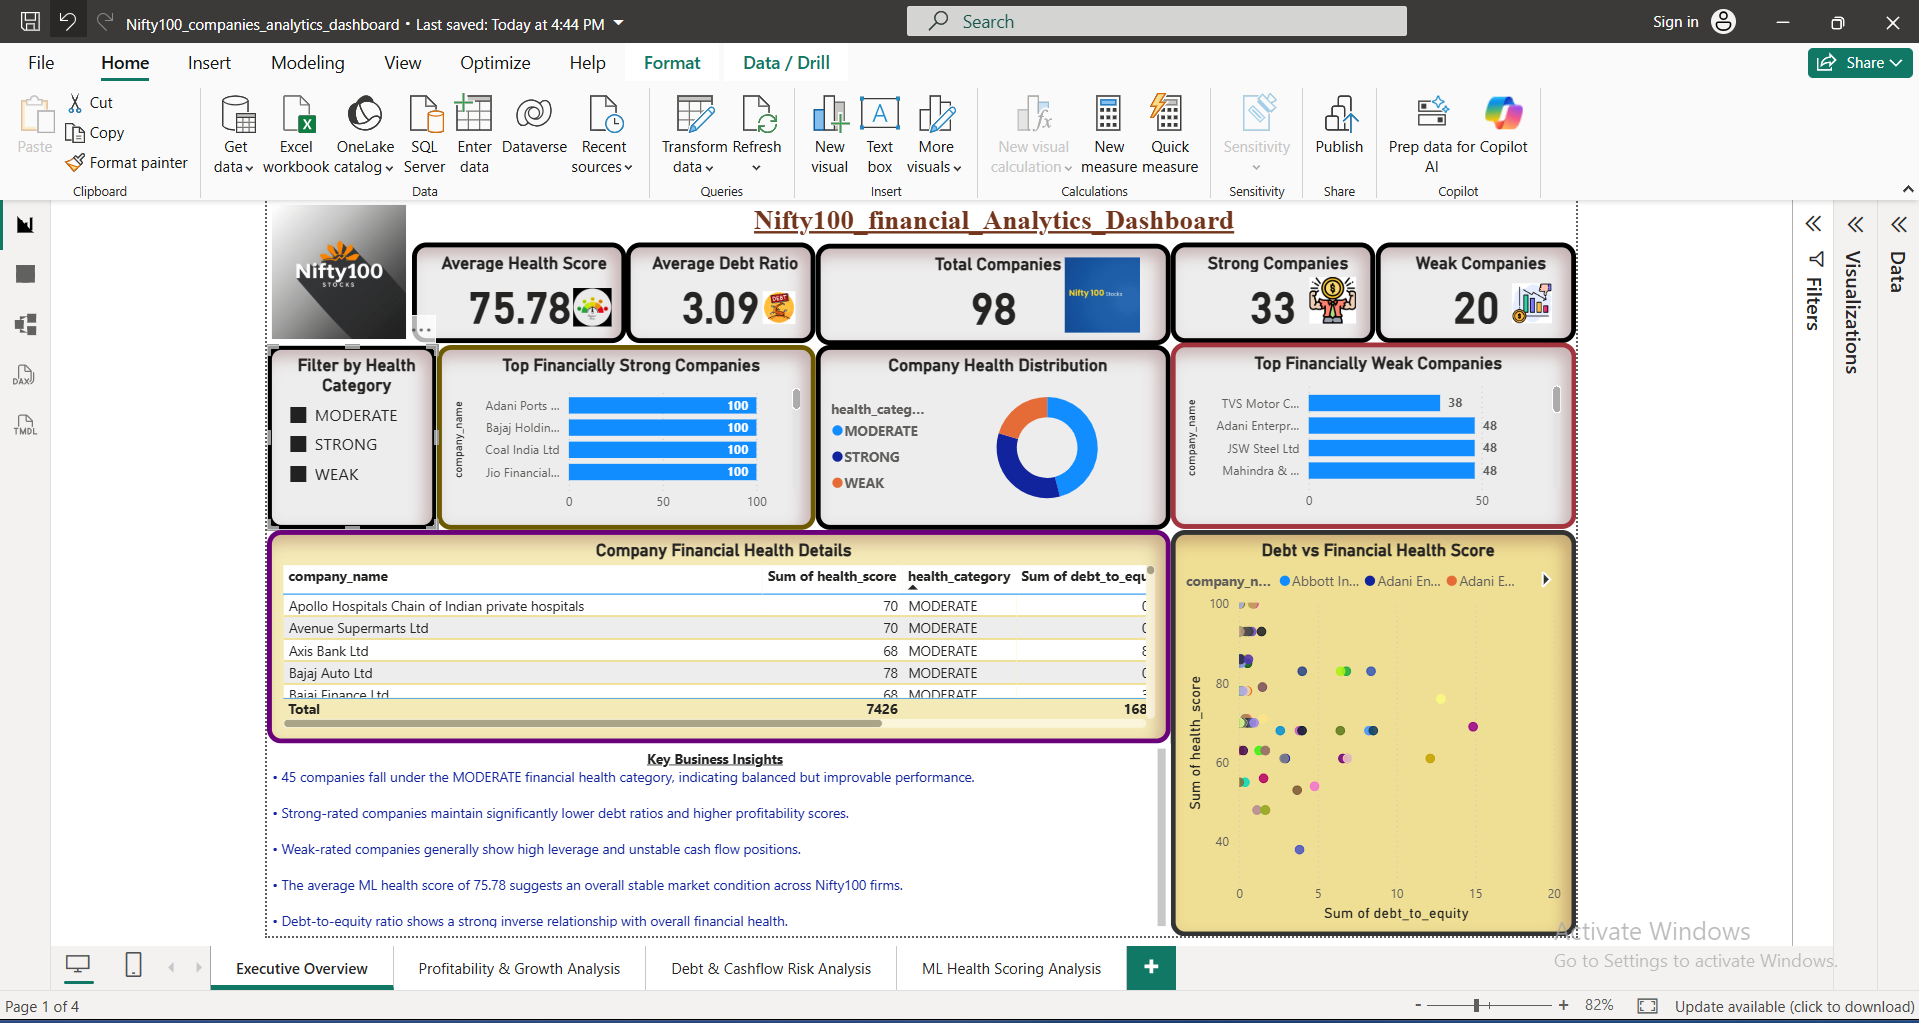

The page's visual inventory and layout, read from the dashboard file:
{"tool":"powerbi","page":{"name":"Executive Overview","canvas":[1280,720],"ordinal":0},"visuals":[{"type":"card","title":"Average Health Score","fields":{"Values":["Avg(company_health_scores.health_score)"]},"box":[141.3,41.2,209.9,98.8],"z":0},{"type":"card","title":"Total Companies","fields":{"Values":["Count(company_health_scores.company_name)"]},"box":[536.8,42.8,347.3,99],"z":1000},{"type":"card","title":"Strong Companies","fields":{"Values":["CountNonNull(company_health_scores.health_category)"]},"box":[883.7,41.2,200.3,98.8],"z":2000},{"type":"card","title":"Weak Companies","fields":{"Values":["CountNonNull(company_health_scores.health_category)"]},"box":[1084.1,41.2,196.2,98.8],"z":3000},{"type":"card","title":"Average Debt Ratio","fields":{"Values":["Avg(company_health_scores.debt_to_equity)"]},"box":[351.3,41.2,185.2,98.8],"z":4000},{"type":"donutChart","title":"Company Health Distribution","fields":{"Category":["company_health_scores.health_category"],"Y":["Count(company_health_scores.company_name)"]},"box":[536.5,141.3,347.2,181.1],"z":5000},{"type":"clusteredBarChart","title":"Top Financially Strong Companies","fields":{"Category":["company_health_scores.company_name"],"Y":["Sum(company_health_scores.health_score)"]},"box":[166,141.3,370.5,181.1],"z":6000},{"type":"clusteredBarChart","title":"Top Financially Weak Companies","fields":{"Category":["company_health_scores.company_name"],"Y":["Sum(company_health_scores.health_score)"]},"box":[883.7,140,396.6,182.5],"z":7000},{"type":"scatterChart","title":"Debt vs Financial Health Score","fields":{"X":["Sum(company_health_scores.debt_to_equity)"],"Y":["Sum(company_health_scores.health_score)"],"Category":["company_health_scores.company_name"],"Series":["company_health_scores.company_name"]},"box":[883.7,322.5,396.6,397.9],"z":8000},{"type":"slicer","title":"Filter by Health Category","fields":{"Values":["company_health_scores.health_category"]},"box":[0,141.3,166,181.1],"z":9000},{"type":"tableEx","title":"Company Financial Health Details","fields":{"Values":["company_health_scores.company_name","Sum(company_health_scores.health_score)","company_health_scores.health_category","Sum(company_health_scores.debt_to_equity)","Sum(company_health_scores.free_cash_flow)","Sum(company_health_scores.net_profit_margin_pct)"]},"box":[0,322.5,883.7,397.9],"z":10000},{"type":"image","box":[0,0,141.3,141.3],"z":11000},{"type":"textbox","box":[141.3,0,1138.9,41.2],"z":12000}]}

Visuals, with their boxes on the page's 1280x720 design canvas (x1, y1, x2, y2). These are canvas units, not pixel positions in the 1919x1023 screenshot, which may show the page scaled, cropped or inside an application window:
"Average Health Score" card: (x1=141, y1=41, x2=351, y2=140)
"Total Companies" card: (x1=537, y1=43, x2=884, y2=142)
"Strong Companies" card: (x1=884, y1=41, x2=1084, y2=140)
"Weak Companies" card: (x1=1084, y1=41, x2=1280, y2=140)
"Average Debt Ratio" card: (x1=351, y1=41, x2=536, y2=140)
"Company Health Distribution" donutChart: (x1=536, y1=141, x2=884, y2=322)
"Top Financially Strong Companies" clusteredBarChart: (x1=166, y1=141, x2=536, y2=322)
"Top Financially Weak Companies" clusteredBarChart: (x1=884, y1=140, x2=1280, y2=322)
"Debt vs Financial Health Score" scatterChart: (x1=884, y1=322, x2=1280, y2=720)
"Filter by Health Category" slicer: (x1=0, y1=141, x2=166, y2=322)
"Company Financial Health Details" tableEx: (x1=0, y1=322, x2=884, y2=720)
image: (x1=0, y1=0, x2=141, y2=141)
textbox: (x1=141, y1=0, x2=1280, y2=41)
